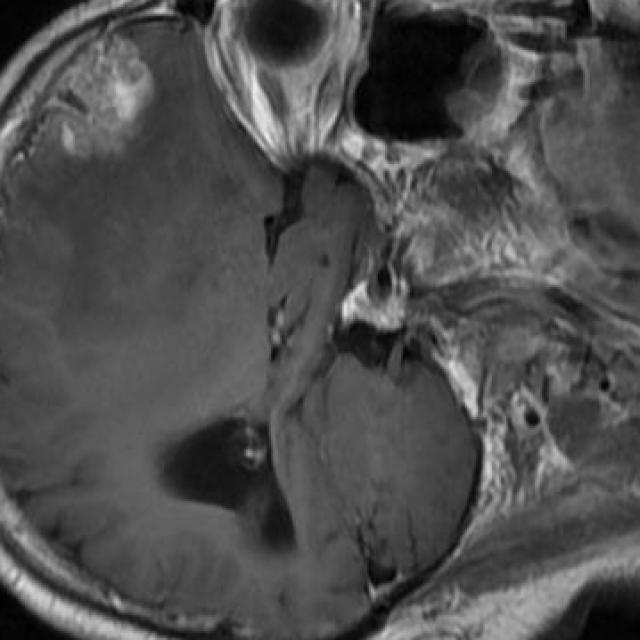meningioma: (43, 36, 153, 157)
